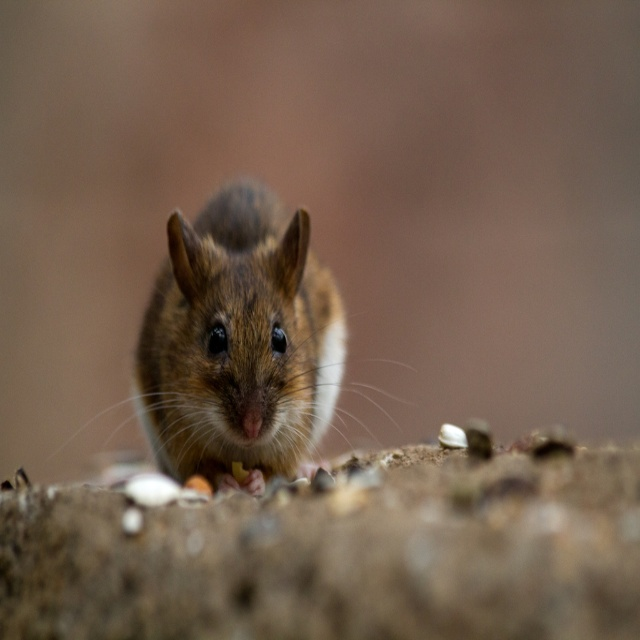Hamster: (42, 181, 418, 495)
